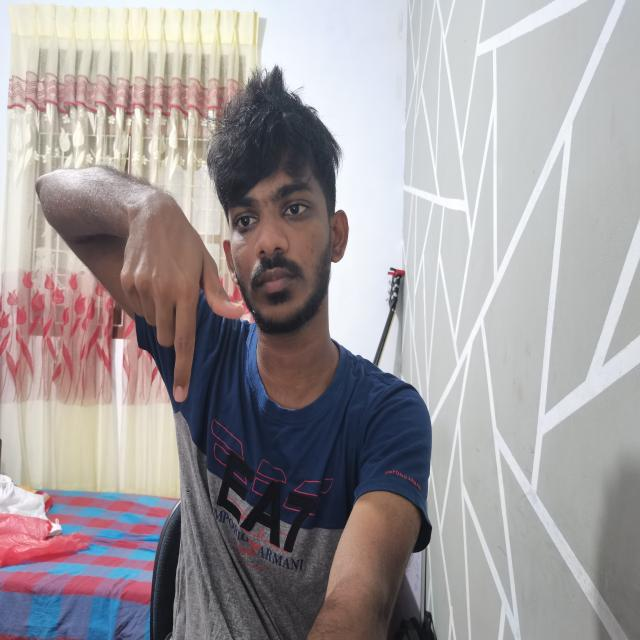Yes: (25, 147, 248, 410)
